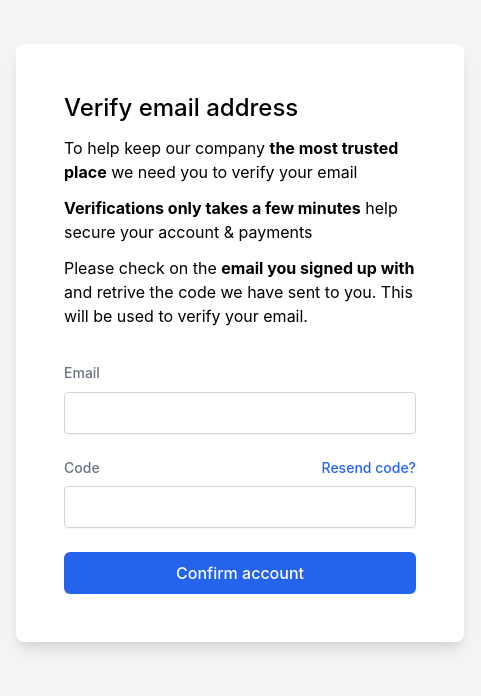
Test: shows an error messages when send code is clicked and no email or code are provided
// submit confirm button
Click the button "Confirm account". click: (240, 573)
box: [64,552,416,594]
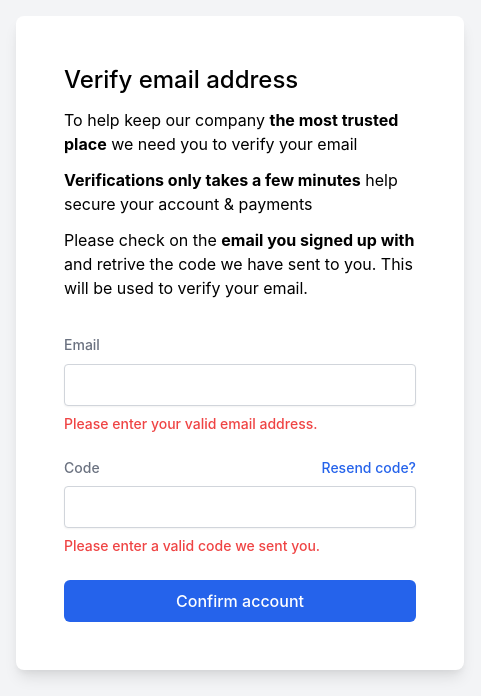
Expected: the text with test id "email__error" shows "Please enter your valid email address", [64,415,318,432]
Expected: the text with test id "code__error" reads "Please enter a valid code we sent you.", [64,537,320,554]
